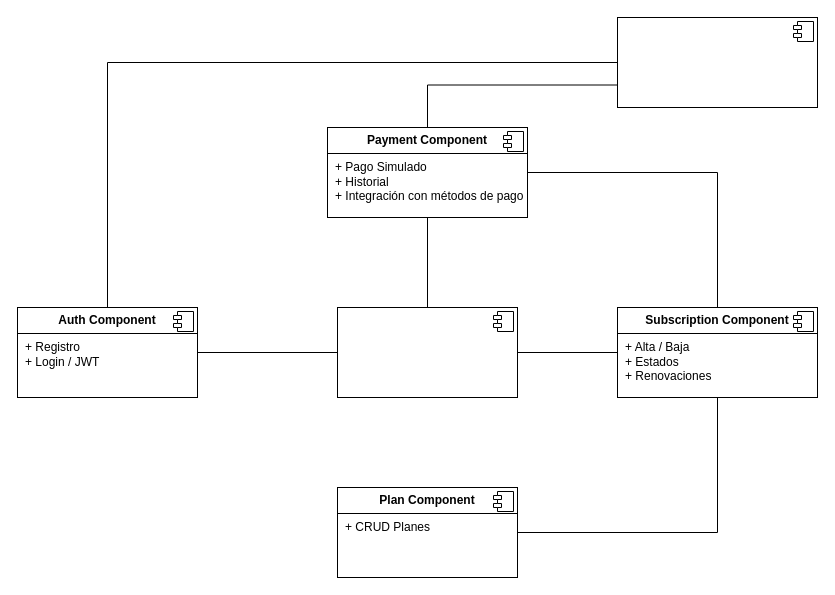
The diagram is 835 pixels wide and 595 high, and some of its shapes have lost their labels. Here are the shapes that lost their labels. From the top down, the centre of each, then its label:
At pixel 717 62: "Notification Component + Emails".
At pixel 427 352: "User Component + Perfil + Roles".
